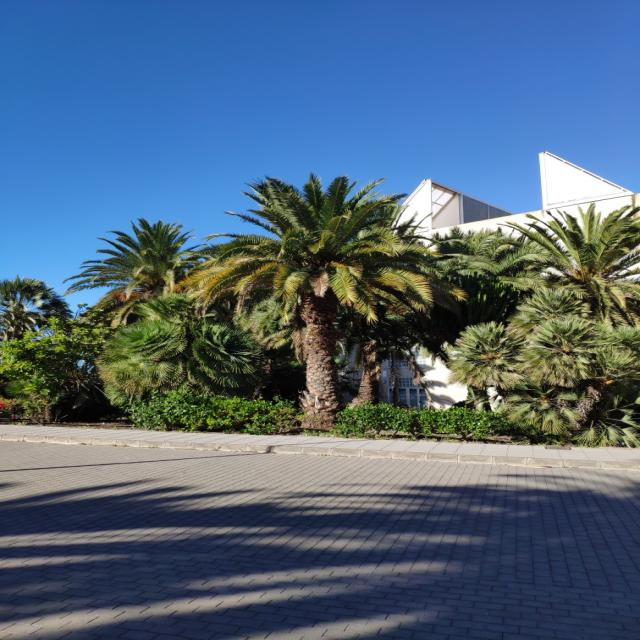Palm-Trees: (208, 175, 427, 432)
